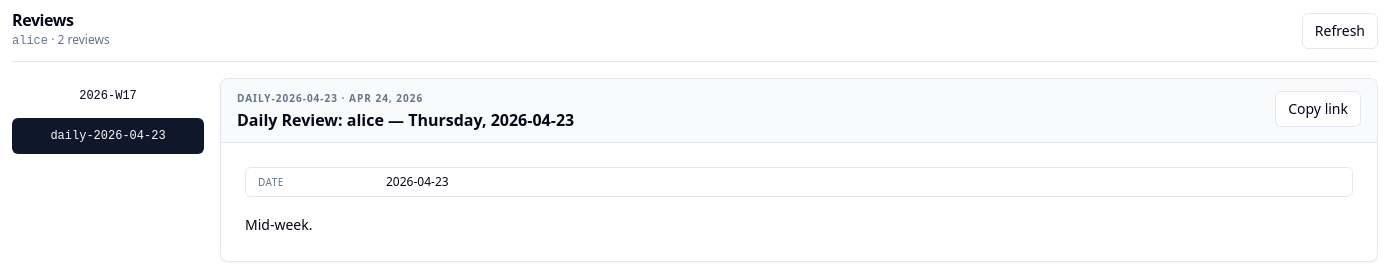
it: AgentReviewsPage — Copy permalink button (issue #12) › writes the permalink to navigator.clipboard and flips the label to "Copied"
This screenshot has width=1390, height=279.
Click the button "Copy link". click: x=1318, y=109
box: [1275,91,1361,127]
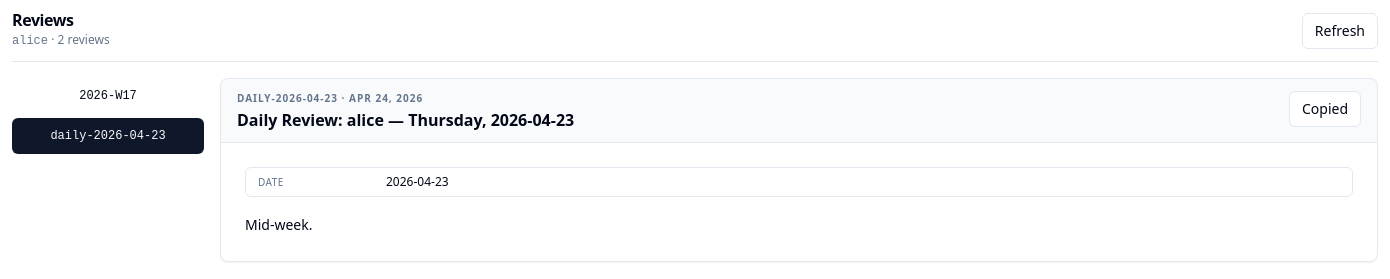
Expected: the button "Copied" is shown, [1289,91,1361,127]
